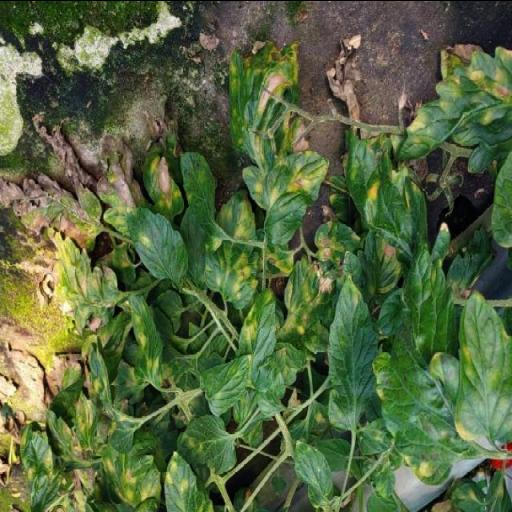Leaf Mold: (372, 230, 474, 484), (390, 44, 512, 172), (342, 124, 428, 278), (228, 38, 302, 210), (453, 288, 512, 442), (204, 187, 258, 307), (262, 149, 330, 244), (127, 204, 189, 290), (238, 286, 278, 391), (177, 414, 238, 474), (128, 292, 163, 389), (200, 352, 252, 415)
